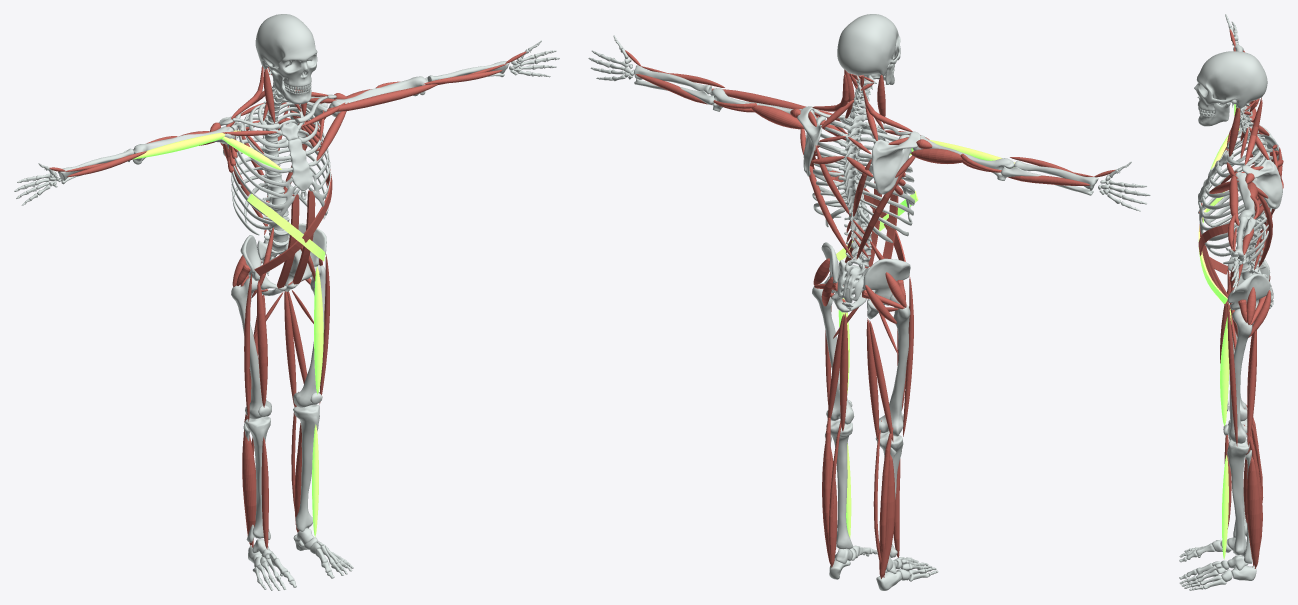
The picture shows the model from 3 angles, left to right: view 1: azimuth 30°, elevation 25°; view 2: azimuth 150°, elevation 25°; view 3: azimuth 270°, elevation 25°; orthographic projection. The views are drawn at different scales.
Parts seen in each view (by area): view 1: Male Skeleton_EXPORT_TMP, Muscle_shin.R_heel.02.R_EXPORT_TMP, SFL 大腿直筋 L_EXPORT_TMP, SFL 大腿直筋 R_EXPORT_TMP, Muscle_spine.T10_pelvis.R_EXPORT_TMP, Muscle_spine.T10_pelvis.R.001_EXPORT_TMP, Muscle_scapula.L_twist arm1.L_EXPORT_TMP, Muscle_pelvis.L_shin.L_M_EXPORT_TMP, Muscle_scapula.R_twist arm1.R_M_EXPORT_TMP, Muscle_pelvis.L_shin.R_M_EXPORT_TMP; view 2: Male Skeleton_EXPORT_TMP, Muscle_shin.R_heel.02.R_EXPORT_TMP, Muscle_pelvis.L_shin.L_M_EXPORT_TMP, Muscle_shin.L_heel.02.L_M_EXPORT_TMP, Muscle_pelvis.L_shin.R_M_EXPORT_TMP, Muscle_pelvis.R_shin.R_EXPORT_TMP, Muscle_pelvis.R_shin.R.001_EXPORT_TMP, Muscle_thigh.R_heel.02.R.001_EXPORT_TMP; view 3: Male Skeleton_EXPORT_TMP, Muscle_shin.L_heel.02.L_M_EXPORT_TMP, SFL 大腿直筋 L_EXPORT_TMP, Muscle_pelvis.R_shin.L_EXPORT_TMP, Muscle_pelvis.L_shin.L_M.001_EXPORT_TMP, SFL 趾伸筋 R_EXPORT_TMP, Muscle_spine.T10_pelvis.R_EXPORT_TMP, Muscle_spine.T10_pelvis.R.001_EXPORT_TMP, Muscle_spine.L5_upper_arm.L_M_EXPORT_TMP, Muscle_scapula.L_twist arm1.L_EXPORT_TMP, Muscle_head_scapula.L_M_EXPORT_TMP, Muscle_pelvis.L_thigh.L_M.003_EXPORT_TMP (+12 smaller).
Boxes of the visible parts, x1,y1,x2,y2 form: Male Skeleton_EXPORT_TMP: (14, 14, 559, 590); Muscle_shin.R_heel.02.R_EXPORT_TMP: (242, 431, 256, 545); SFL 大腿直筋 L_EXPORT_TMP: (314, 266, 323, 394); SFL 大腿直筋 R_EXPORT_TMP: (257, 280, 267, 407); Muscle_spine.T10_pelvis.R_EXPORT_TMP: (254, 169, 332, 275); Muscle_spine.T10_pelvis.R.001_EXPORT_TMP: (247, 193, 325, 261); Muscle_scapula.L_twist arm1.L_EXPORT_TMP: (327, 84, 438, 111); Muscle_pelvis.L_shin.L_M_EXPORT_TMP: (284, 291, 296, 406); Muscle_scapula.R_twist arm1.R_M_EXPORT_TMP: (133, 130, 240, 159); Muscle_pelvis.L_shin.R_M_EXPORT_TMP: (244, 273, 251, 421); Male Skeleton_EXPORT_TMP: (588, 14, 1150, 590); Muscle_shin.R_heel.02.R_EXPORT_TMP: (879, 454, 895, 578); Muscle_pelvis.L_shin.L_M_EXPORT_TMP: (839, 313, 848, 431); Muscle_shin.L_heel.02.L_M_EXPORT_TMP: (822, 444, 837, 566); Muscle_pelvis.L_shin.R_M_EXPORT_TMP: (903, 276, 913, 436); Muscle_pelvis.R_shin.R_EXPORT_TMP: (866, 318, 878, 439); Muscle_pelvis.R_shin.R.001_EXPORT_TMP: (869, 320, 893, 441); Muscle_thigh.R_heel.02.R.001_EXPORT_TMP: (880, 427, 893, 575); Male Skeleton_EXPORT_TMP: (1179, 14, 1282, 590); Muscle_shin.L_heel.02.L_M_EXPORT_TMP: (1246, 456, 1260, 568); SFL 大腿直筋 L_EXPORT_TMP: (1220, 309, 1231, 426); Muscle_pelvis.R_shin.L_EXPORT_TMP: (1227, 302, 1237, 446); Muscle_pelvis.L_shin.L_M.001_EXPORT_TMP: (1247, 331, 1256, 446); SFL 趾伸筋 R_EXPORT_TMP: (1222, 455, 1228, 559); Muscle_spine.T10_pelvis.R_EXPORT_TMP: (1198, 223, 1229, 274); Muscle_spine.T10_pelvis.R.001_EXPORT_TMP: (1198, 191, 1227, 303); Muscle_spine.L5_upper_arm.L_M_EXPORT_TMP: (1257, 194, 1272, 267); Muscle_scapula.L_twist arm1.L_EXPORT_TMP: (1229, 172, 1239, 225); Muscle_head_scapula.L_M_EXPORT_TMP: (1244, 100, 1262, 164); Muscle_pelvis.L_thigh.L_M.003_EXPORT_TMP: (1248, 290, 1270, 337).
Bounding box in the file's own units: 1.94 × 1.85 × 0.3384.
